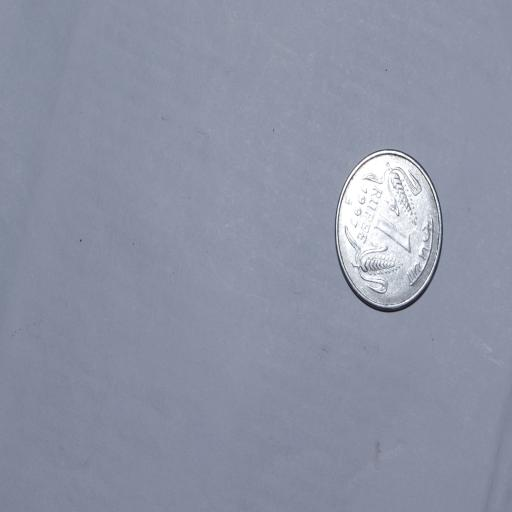rupee1: (330, 148, 447, 317)
